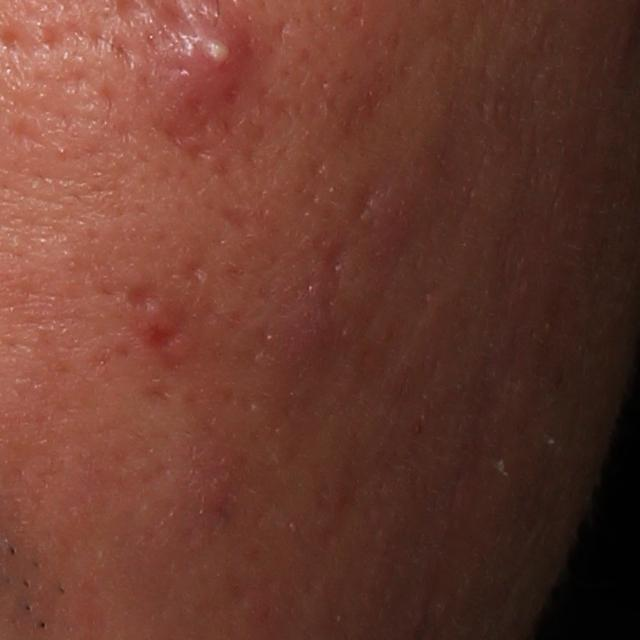atrophic_scar: (2, 112, 55, 155), (206, 201, 263, 239), (133, 319, 184, 353), (122, 279, 163, 314), (179, 255, 209, 285)
pustule: (143, 11, 247, 125)
